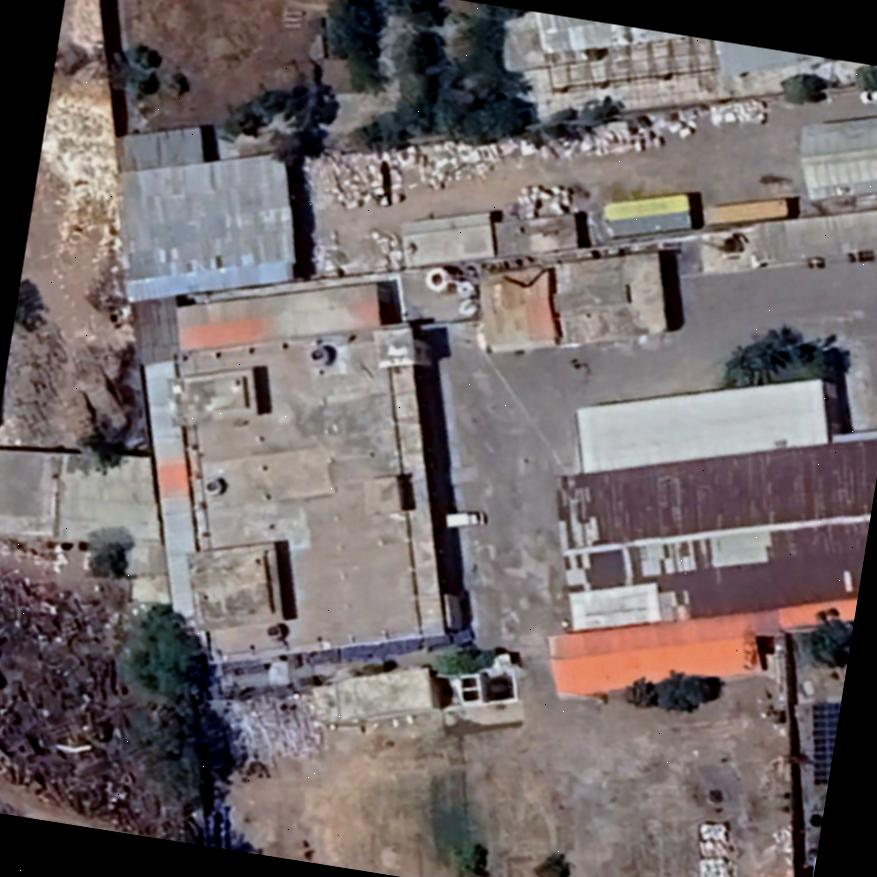Solarpanel: (809, 693, 842, 787)
